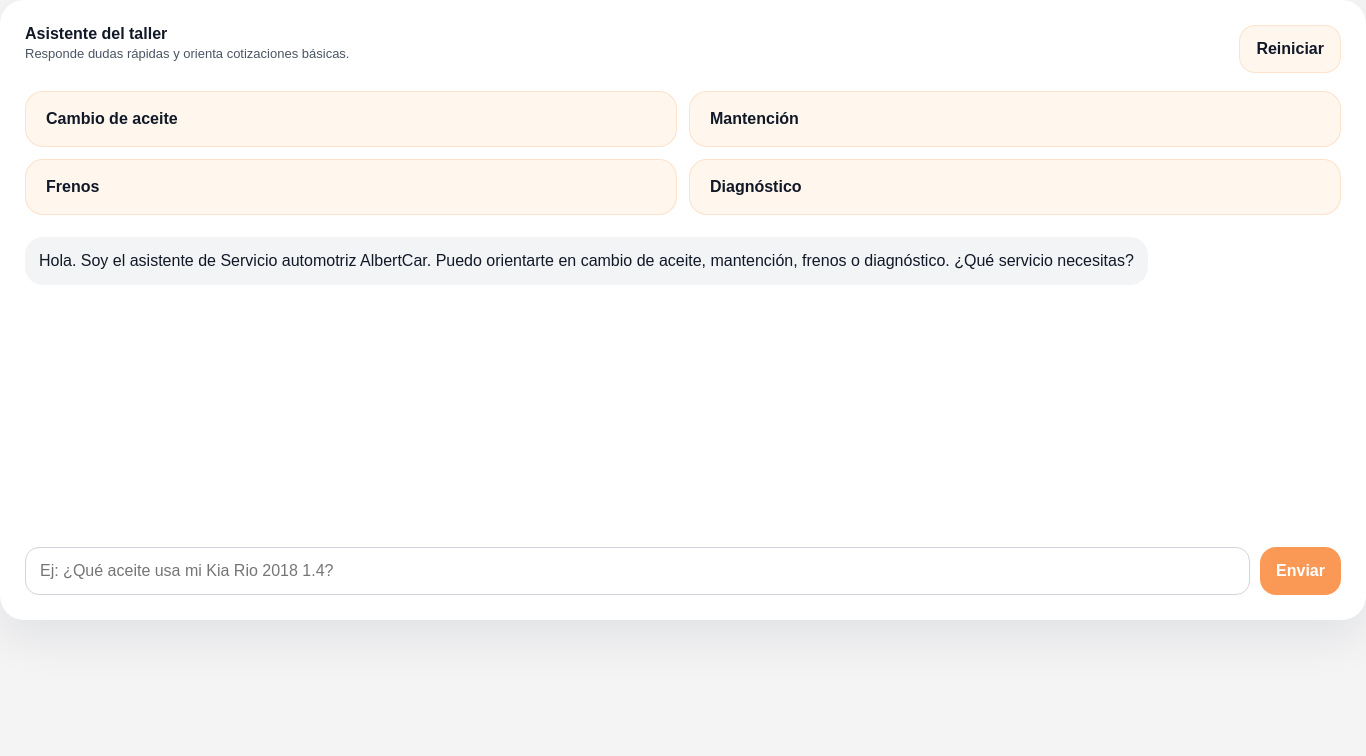
AssistantChat › envía el formulario de aceite y muestra la recomendación final
Expected: the text "¿Qué servicio necesitas?" is shown, [39,252,1134,269]
Step 1. Click the button "Cambio de aceite" → (112, 118), box [25,91,677,147]
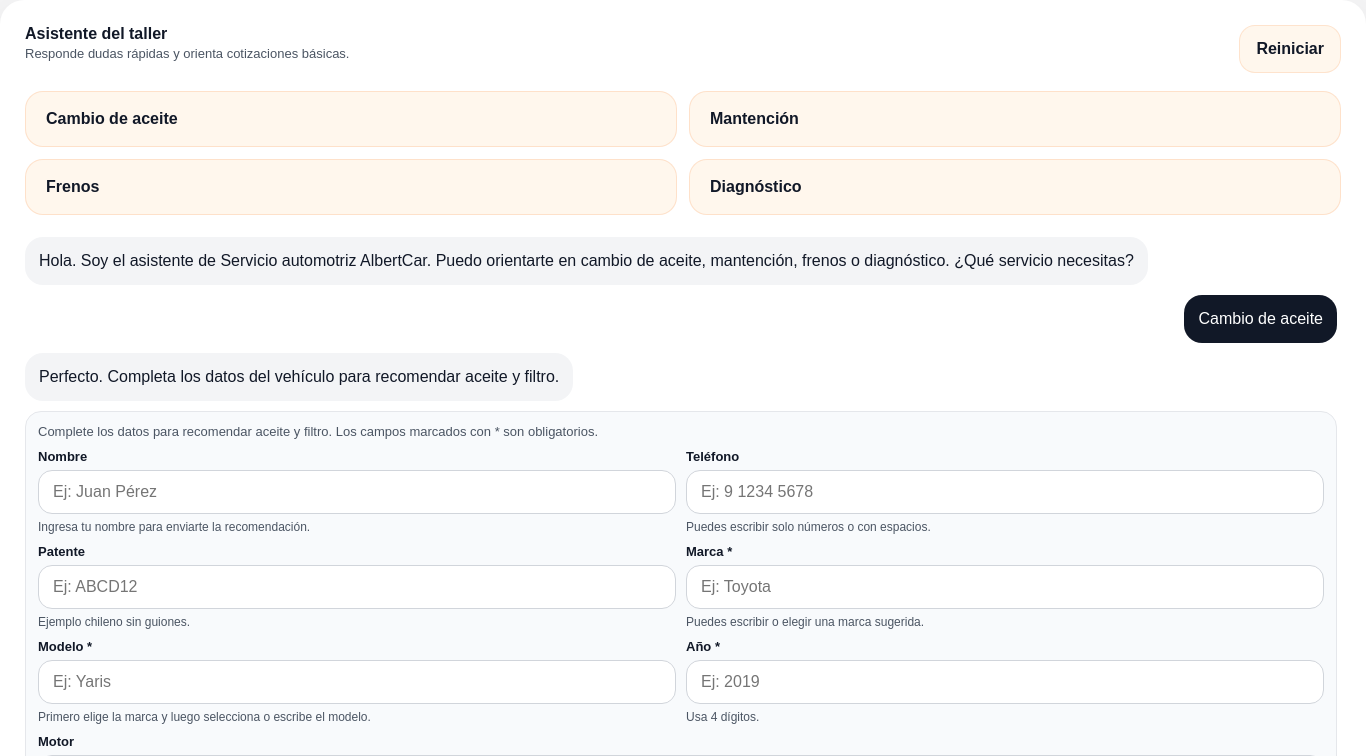
Step 2. Type "Toyota" into the field labelled "Marca" → (1005, 587), box [686,565,1324,609]
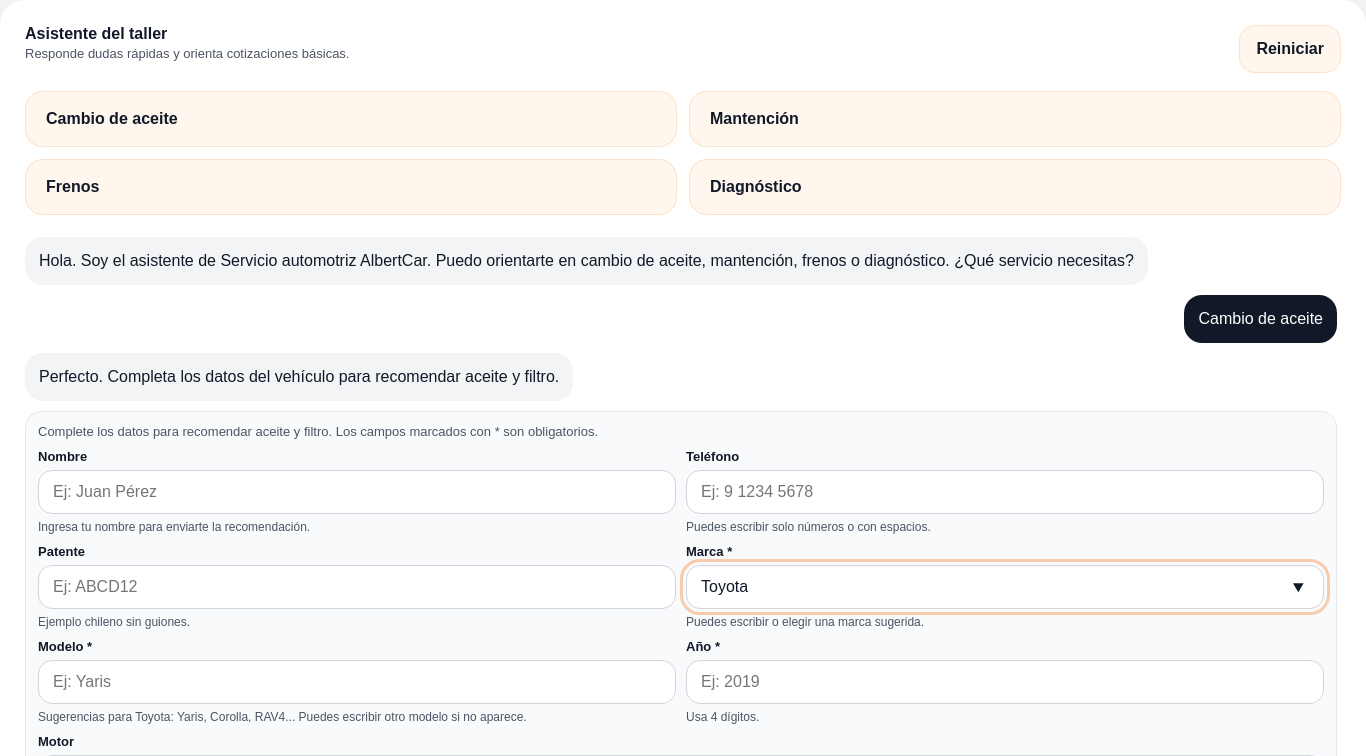
Step 3. Type "Yaris" into the field labelled "Modelo" → (357, 682), box [38,660,676,704]
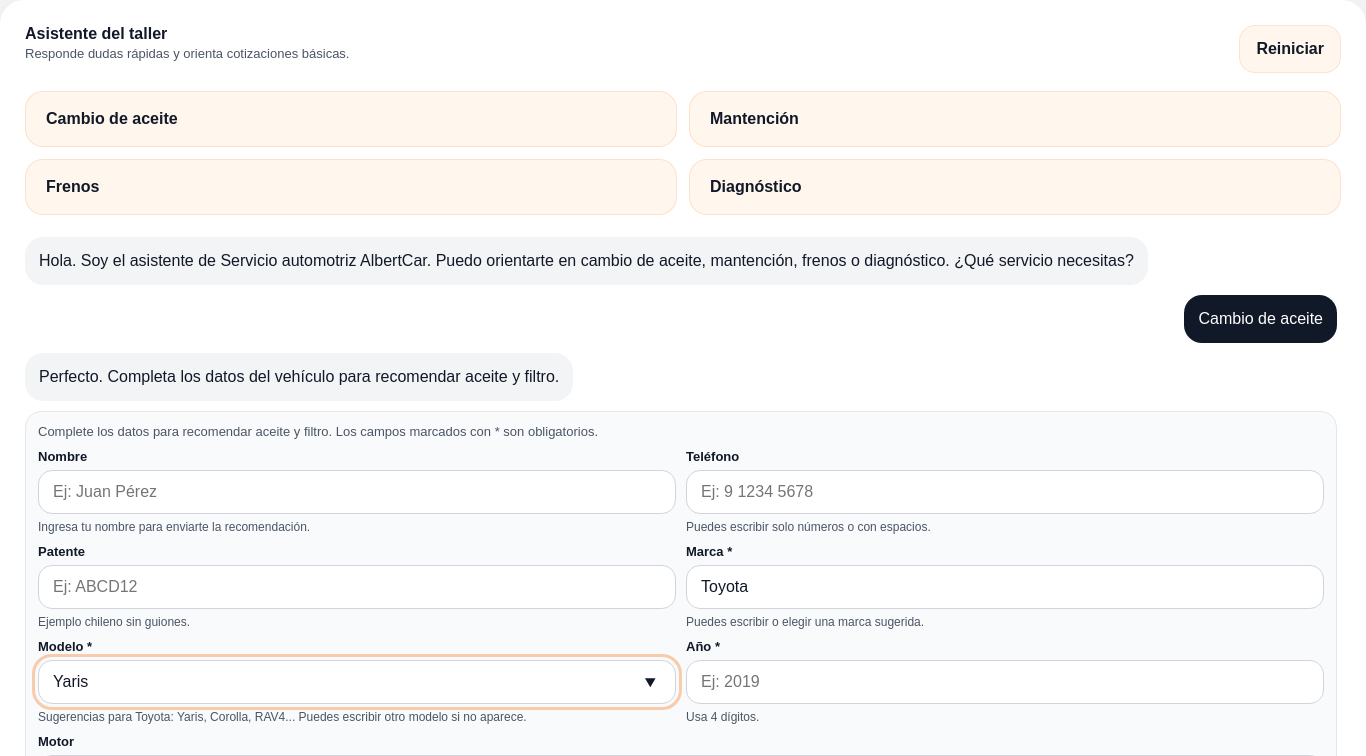
Step 4. Type "2020" into the field labelled "Año" → (1005, 682), box [686,660,1324,704]
(page scrolled)
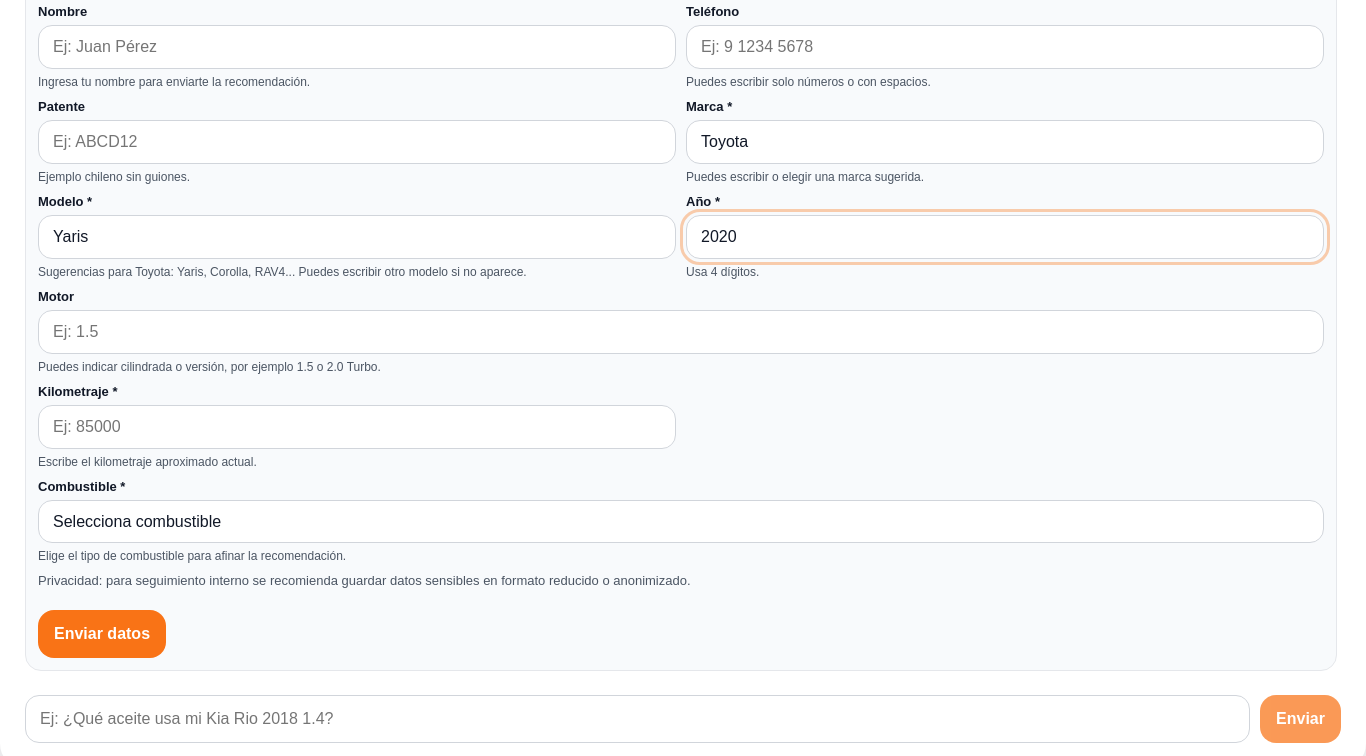
Step 5. Select "Bencina" in the dropdown labelled "Combustible" → (681, 522), box [38,500,1324,543]
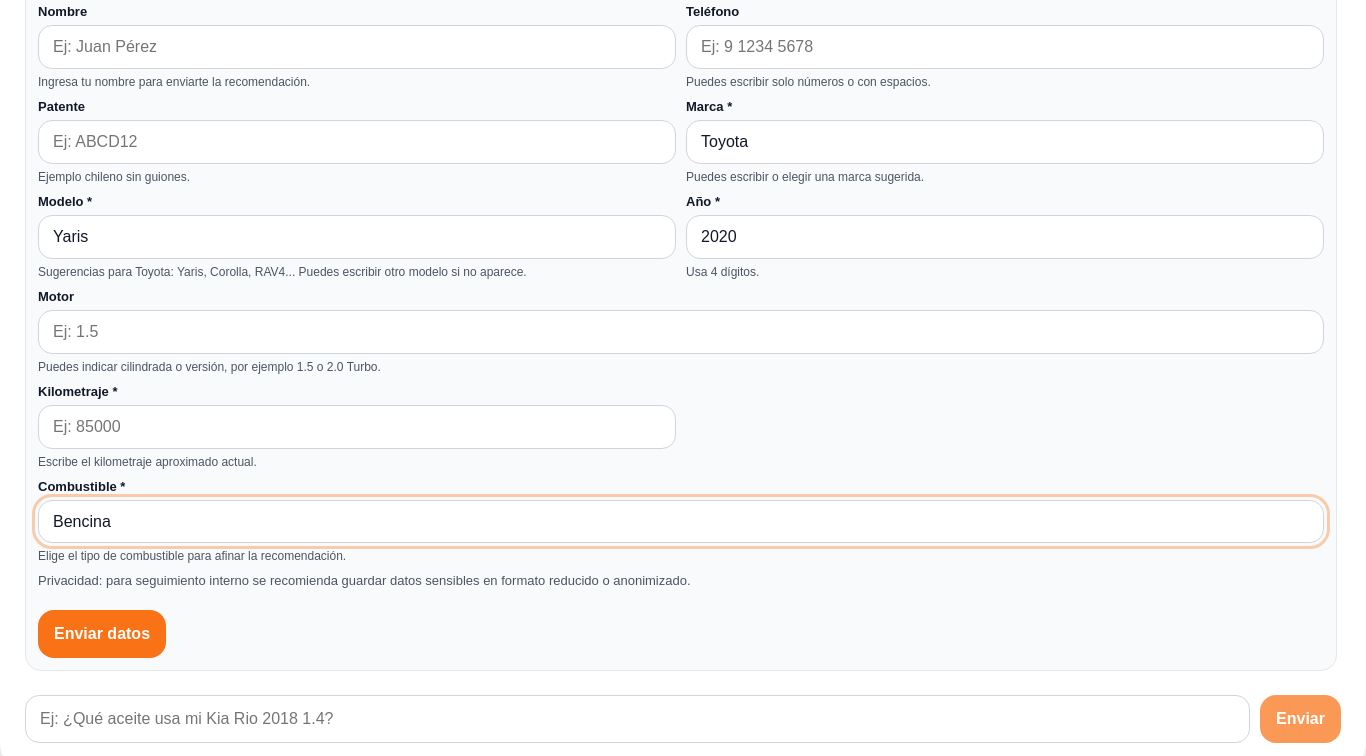
Step 6. Click the button "Enviar datos" → (102, 634), box [38,610,166,658]
(page scrolled)
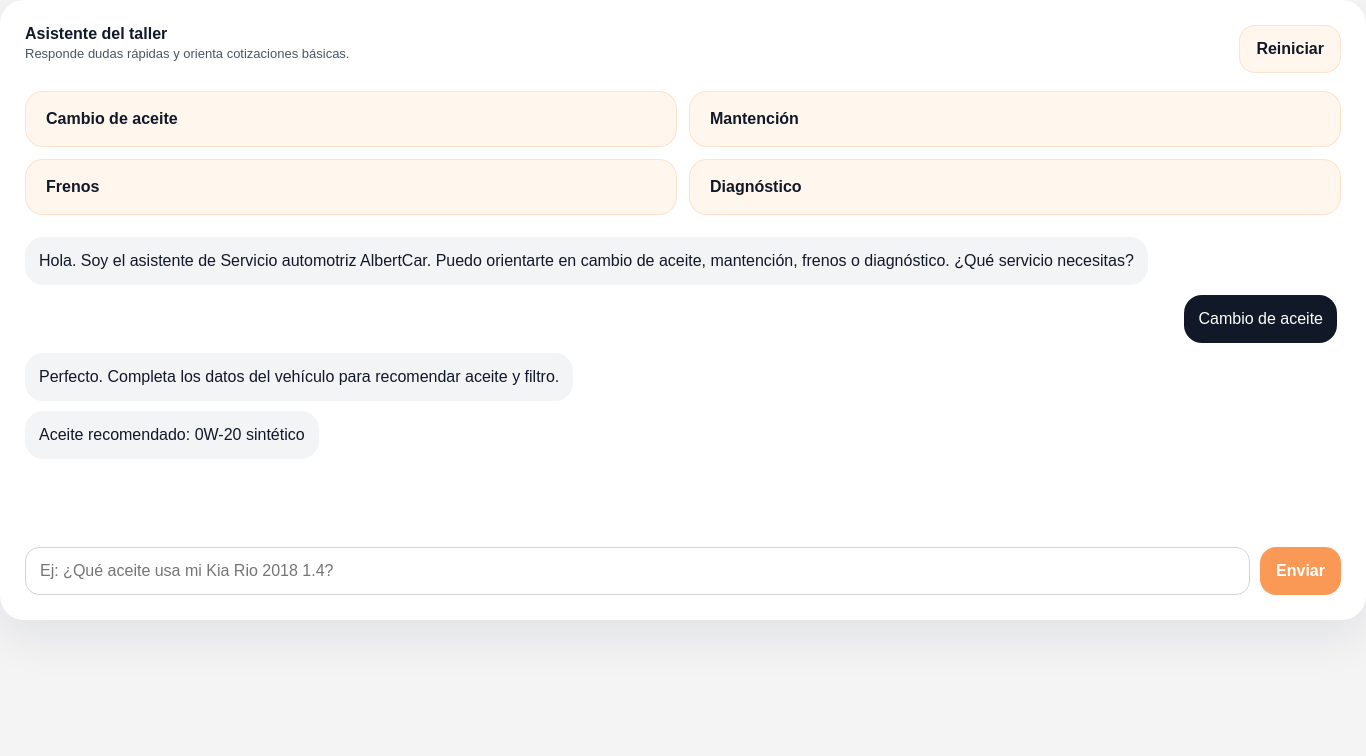
Expected: the text "Aceite recomendado: 0W-20 sintético" is shown, [25,411,319,459]
